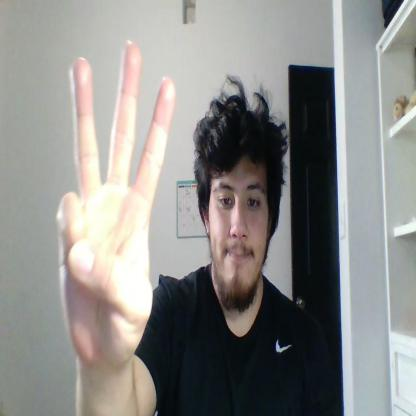W: (57, 40, 176, 367)
